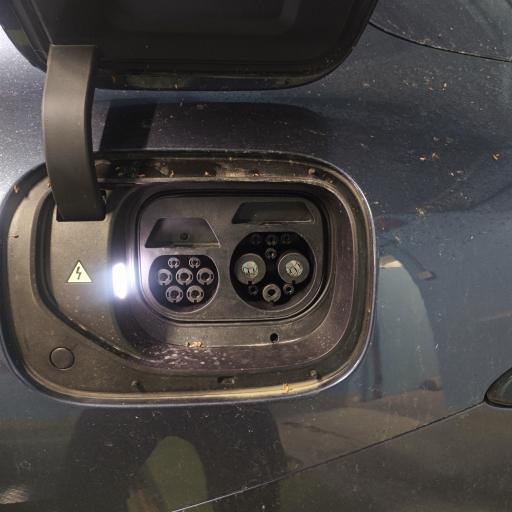AC_charging_hole: (147, 253, 221, 316)
DC_charging_port: (226, 227, 320, 316)
DC_hole: (276, 249, 312, 285), (234, 252, 268, 288)
PE: (262, 284, 284, 304)
